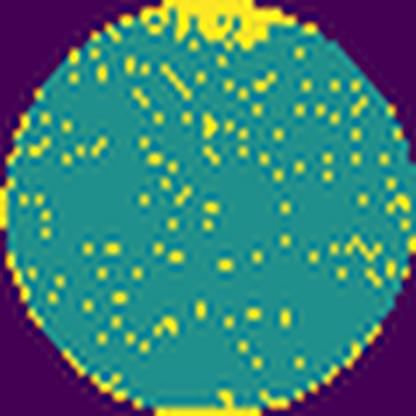Edge-Loc: (132, 0, 297, 52)
